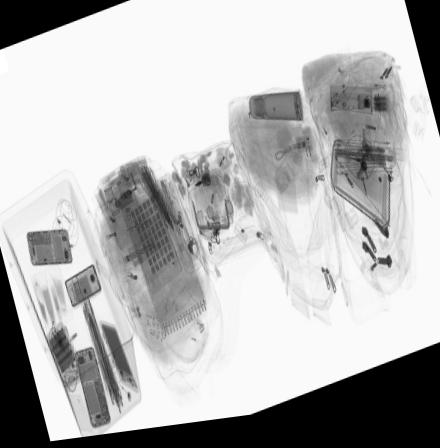Lighter: (363, 90, 385, 101)
